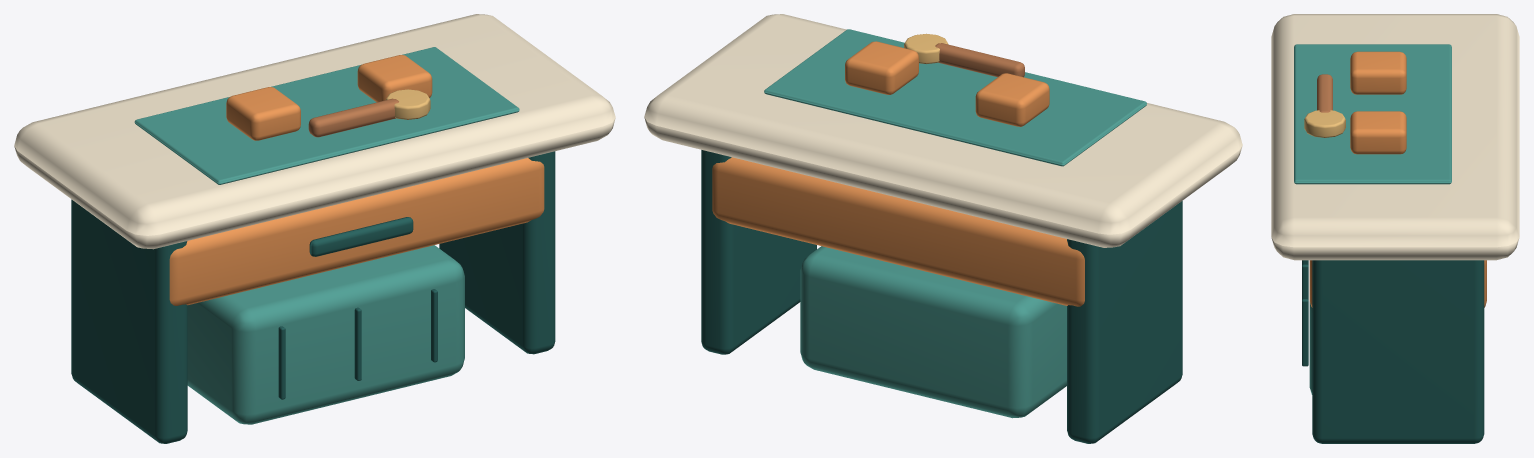
Rendered from repair_bench.glb.
3 renders of one model, left to right at view 1: azimuth 30°, elevation 25°; view 2: azimuth 150°, elevation 25°; view 3: azimuth 270°, elevation 25°, orthographic. The views are drawn at different scales.
Visible parts, largest first — view 1: repair_bench_mesh; view 2: repair_bench_mesh; view 3: repair_bench_mesh.
Part boxes in pixels (bbox=[...]): repair_bench_mesh: bbox=[14, 14, 615, 443]; repair_bench_mesh: bbox=[644, 14, 1242, 443]; repair_bench_mesh: bbox=[1271, 14, 1519, 443].
Bounding box in the file's own units: 1.85 × 1.06 × 0.88.
